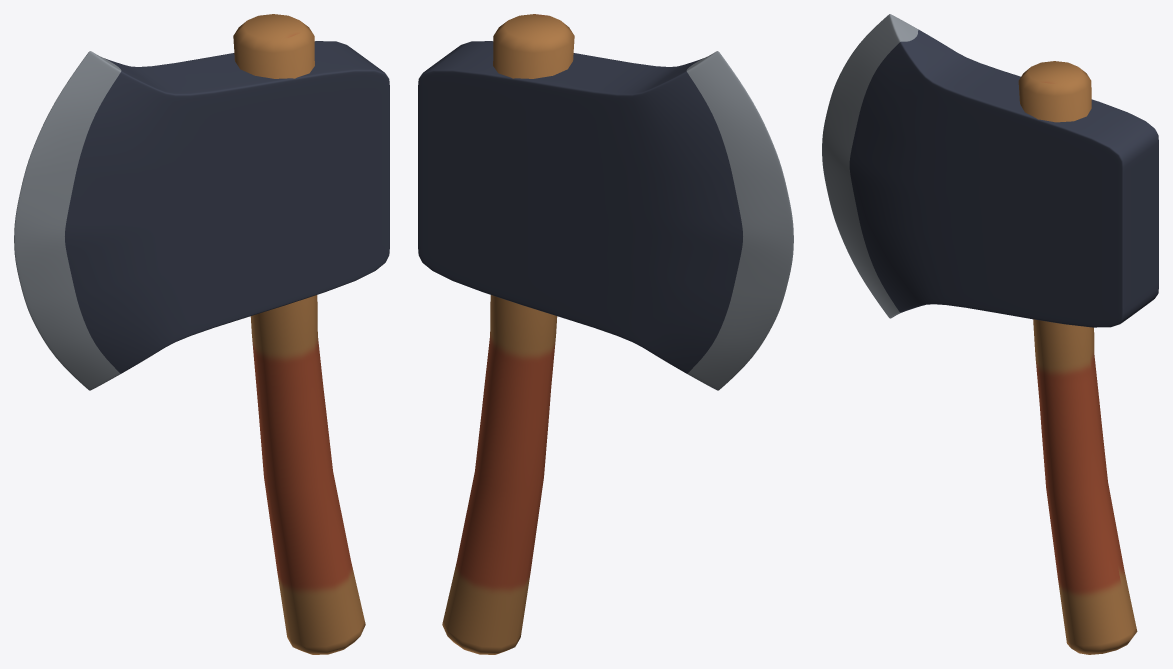
Rendered from Axe.fbx.
3 views of the same model, side by side, from view 1: azimuth 30°, elevation 25°; view 2: azimuth 150°, elevation 25°; view 3: azimuth 330°, elevation 25° (orthographic). The views are drawn at different scales.
Parts seen in each view (by area): view 1: Plane, Wood; view 2: Plane, Wood; view 3: Plane, Wood.
Part boxes in pixels (x1=…): Plane: x1=14, y1=41, x2=389, y2=390; Wood: x1=233, y1=14, x2=365, y2=654; Plane: x1=418, y1=41, x2=793, y2=390; Wood: x1=442, y1=14, x2=574, y2=654; Plane: x1=822, y1=14, x2=1158, y2=327; Wood: x1=1018, y1=61, x2=1137, y2=654.
Size of the model in its own units: 242 by 422 by 47.92.
